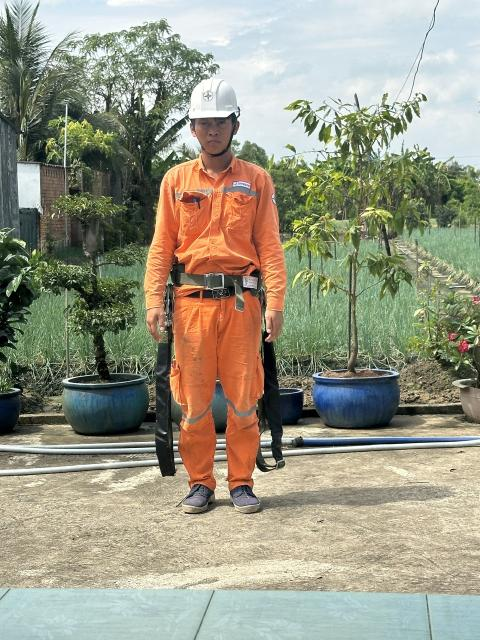harness: (167, 256, 278, 312)
helmet: (175, 68, 257, 134)
shoes: (172, 470, 216, 522), (226, 475, 262, 518)
